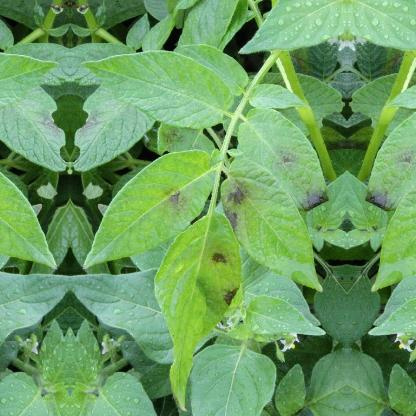Late-Blight: (138, 160, 268, 336), (70, 48, 124, 169), (14, 48, 68, 169), (277, 136, 337, 222), (355, 136, 415, 222)
